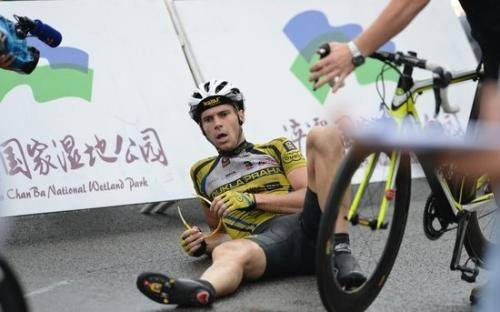falling: (115, 63, 333, 312)
